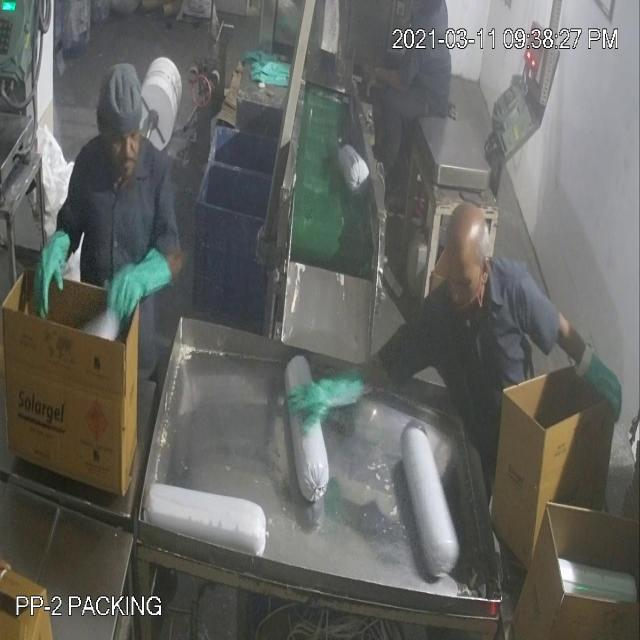gloves: (286, 359, 374, 438), (104, 236, 166, 338), (565, 325, 625, 427), (30, 223, 74, 330), (366, 57, 405, 100)
